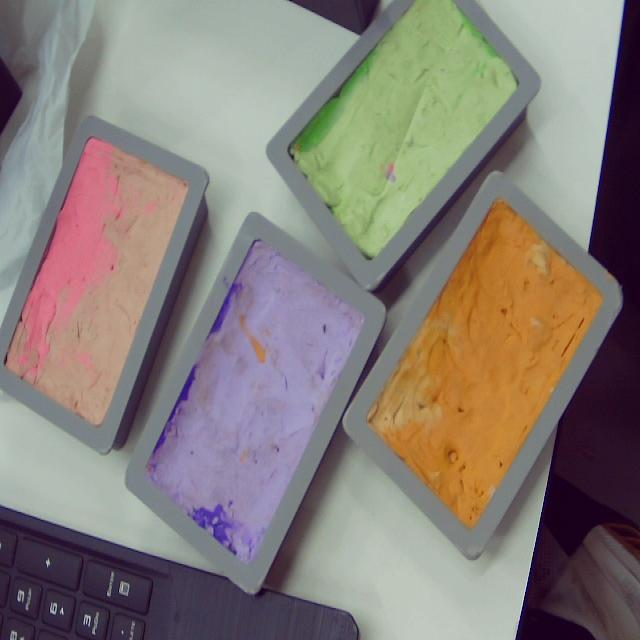block: (340, 173, 624, 563), (124, 213, 383, 596), (268, 1, 543, 293), (1, 113, 214, 457)
